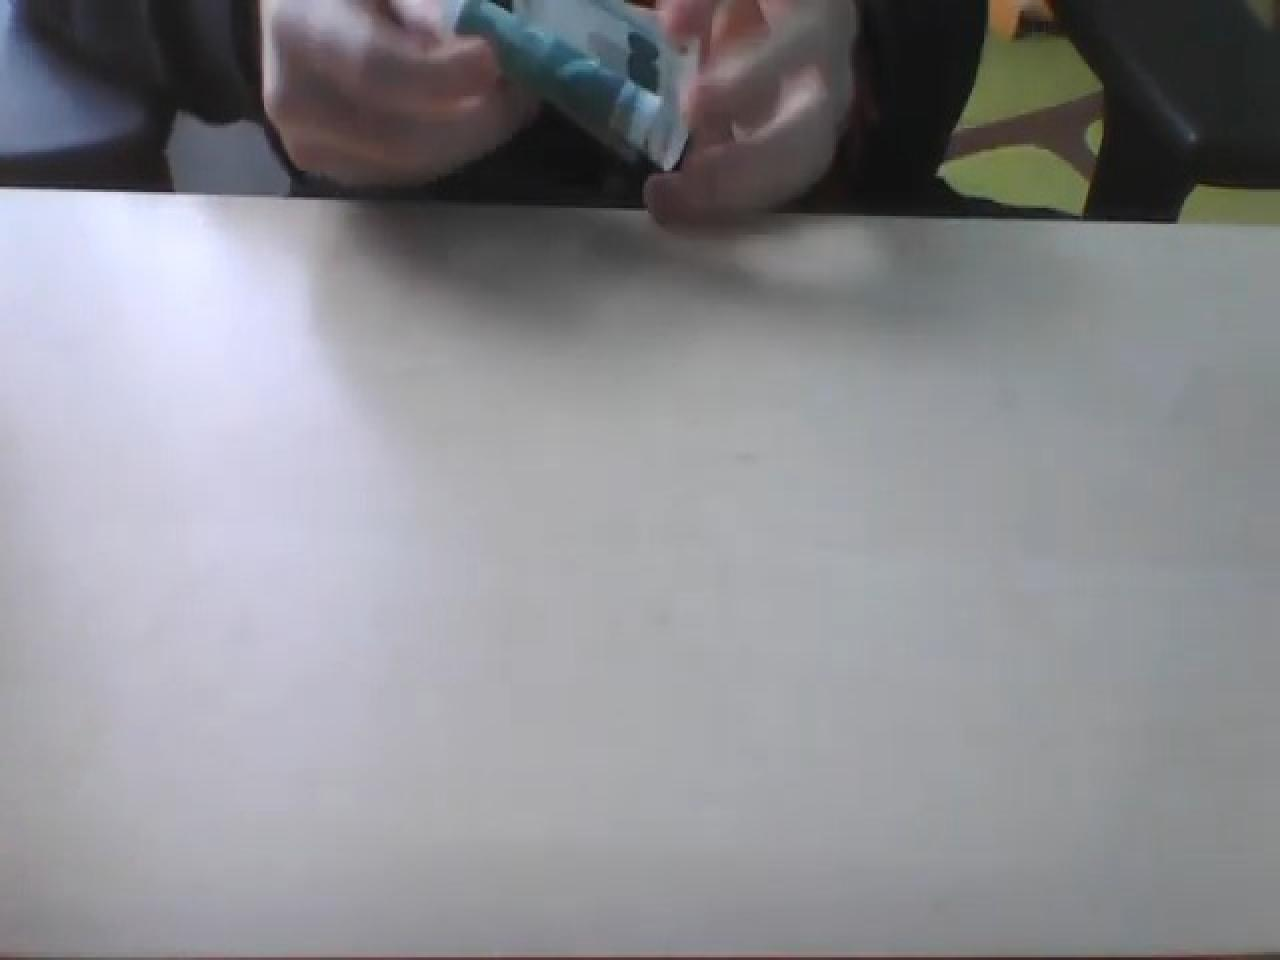100leva: (450, 0, 700, 176)
